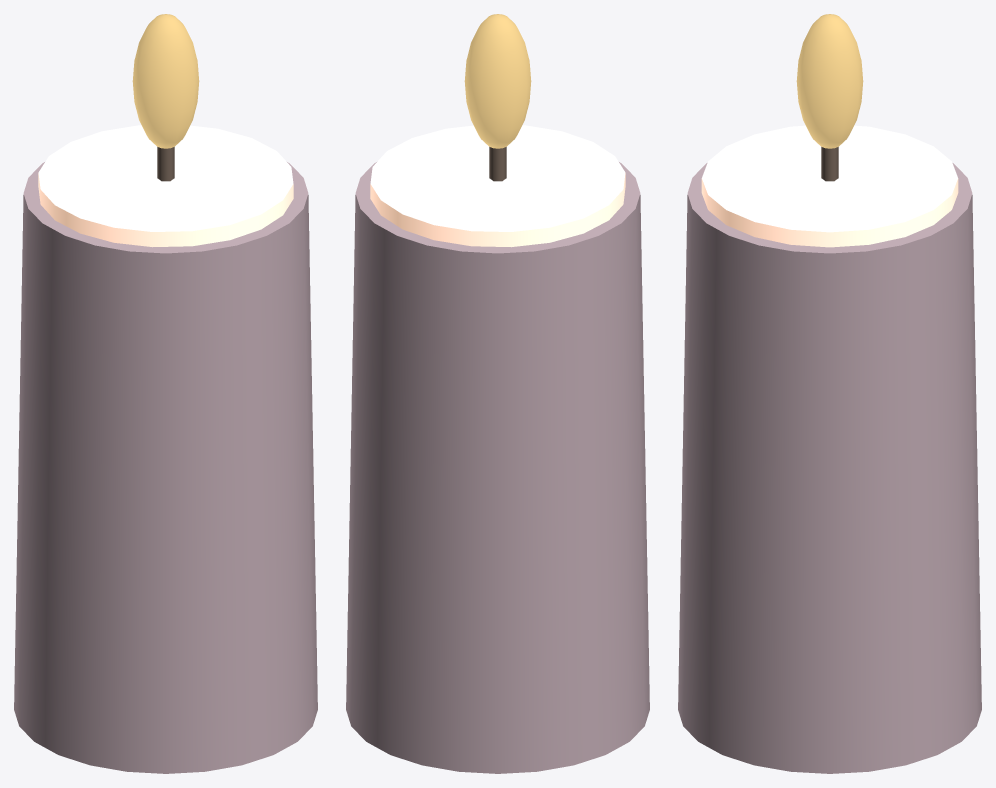
The model's file is candle.glb.
3 views of the same model, side by side, from view 1: azimuth 30°, elevation 25°; view 2: azimuth 150°, elevation 25°; view 3: azimuth 270°, elevation 25° (orthographic).
Visible parts, largest first — view 1: candle; view 2: candle; view 3: candle.
Part boxes in pixels (left/top/right/bottom): candle: left=14, top=14, right=317, bottom=773; candle: left=346, top=14, right=649, bottom=773; candle: left=678, top=14, right=981, bottom=773.
Bounding box in the file's own units: 0.64 × 1.61 × 0.64.
